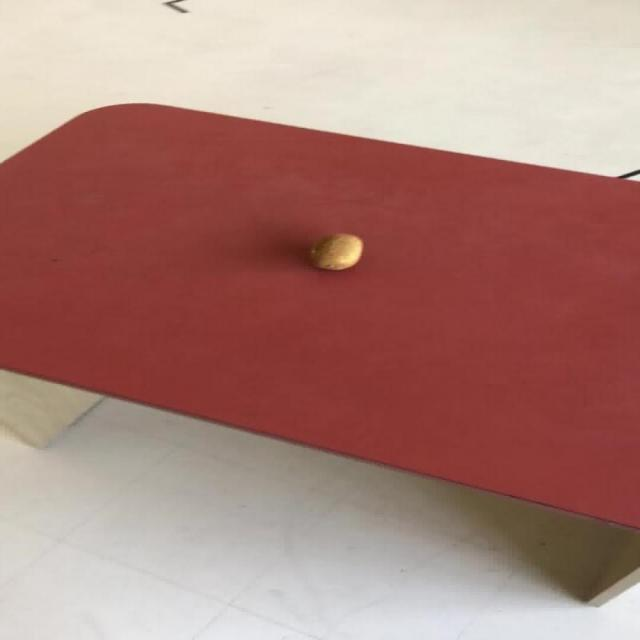Kiwi: (309, 232, 363, 270)
